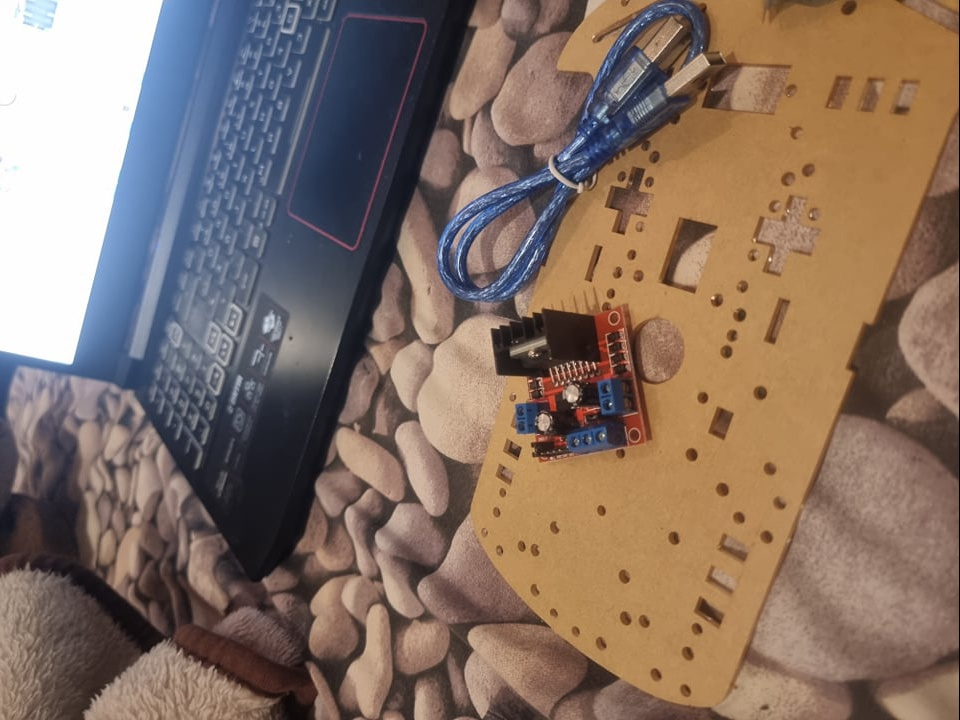MOTOR: (489, 301, 646, 461)
